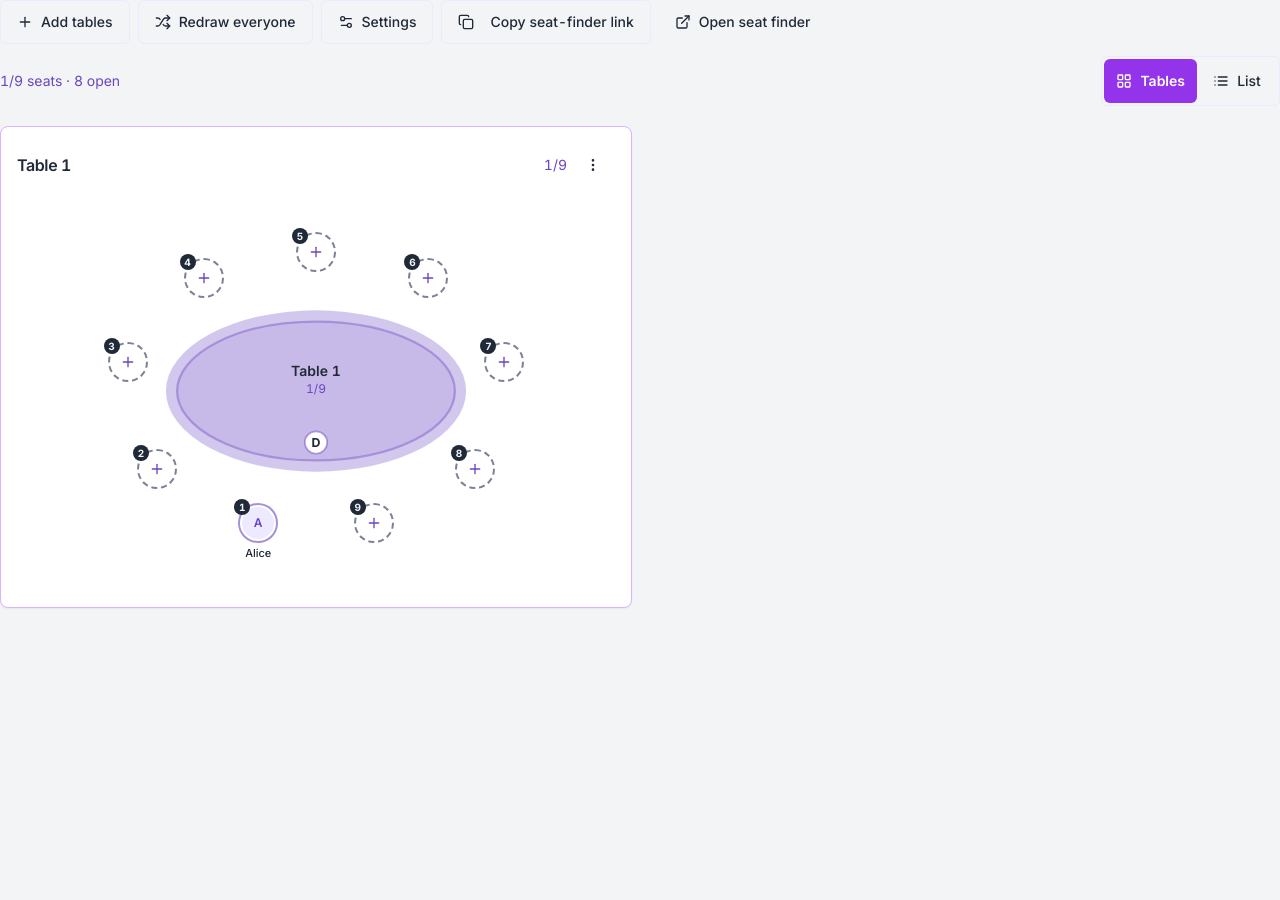
Scenario: Seating settings › puts the server's refusal on its field
What coordinates should you click on to do the following:
click the button "Settings"
I would click on:
 (377, 22)
Its box is x1=320 y1=0 x2=433 y2=44.
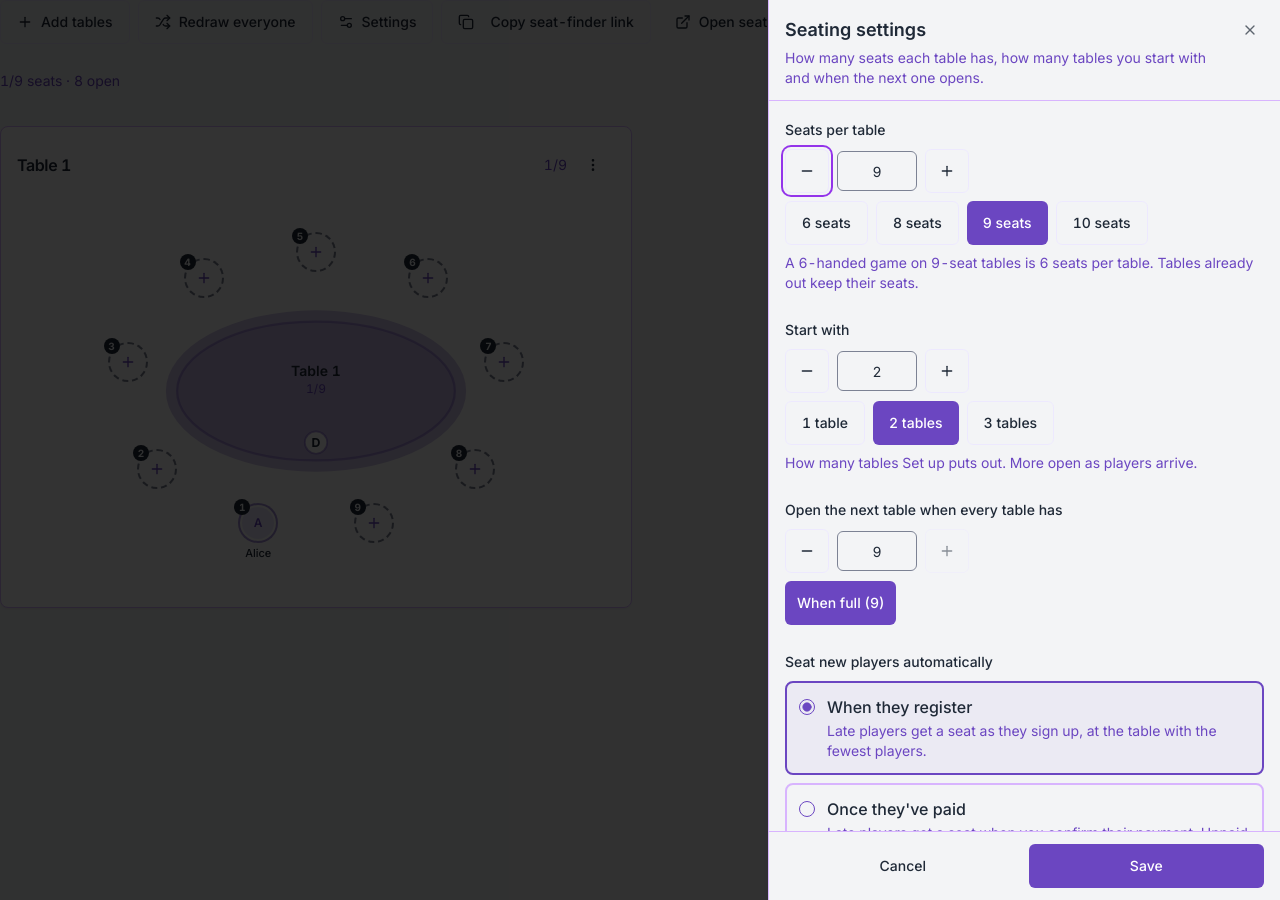
What coordinates should you click on to do the following:
click the button named "Fewer players"
I would click on:
 (807, 551)
Its box is x1=785 y1=529 x2=829 y2=573.
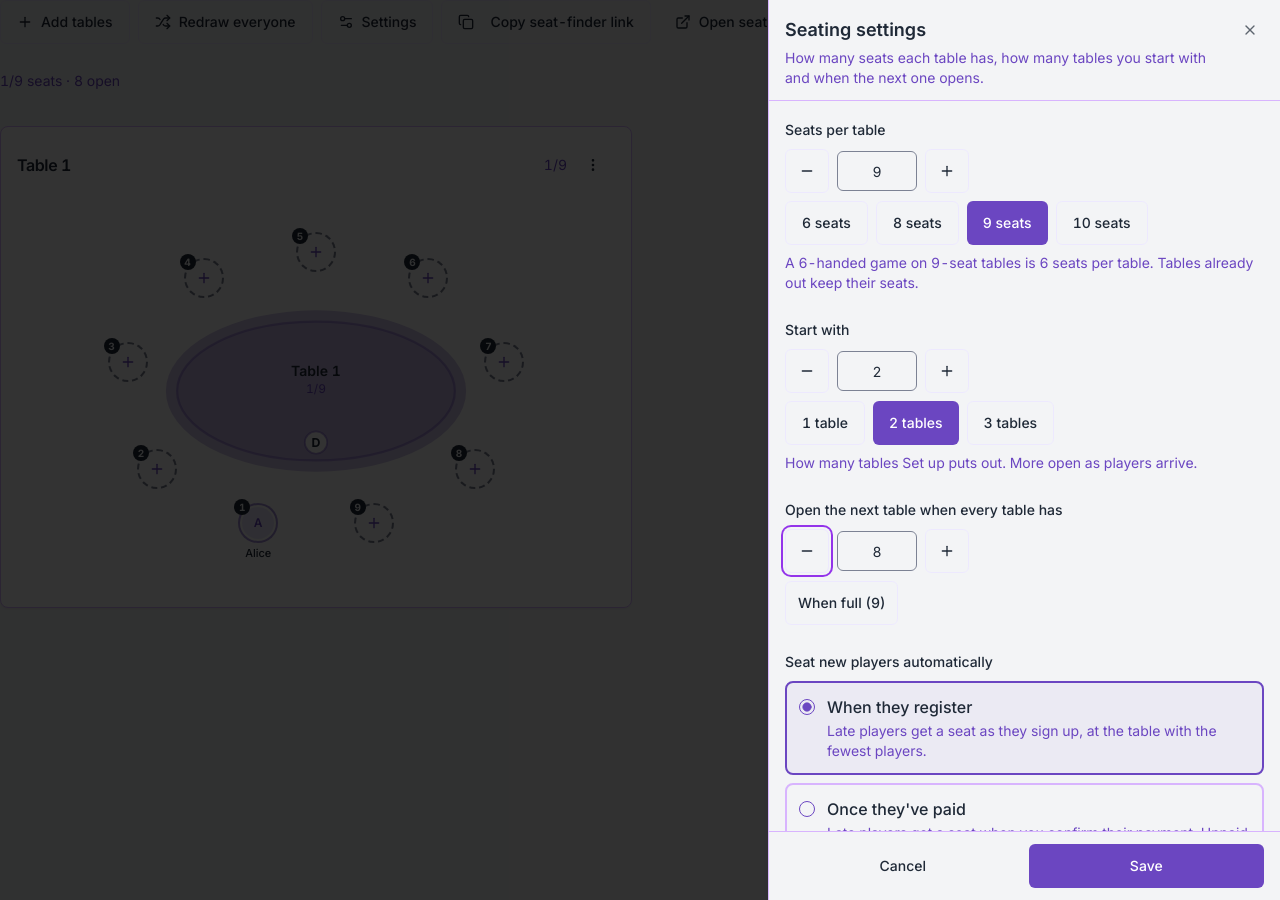
What coordinates should you click on to do the following:
click the button "Save"
I would click on:
 (1146, 866)
Its box is x1=1028 y1=844 x2=1264 y2=888.
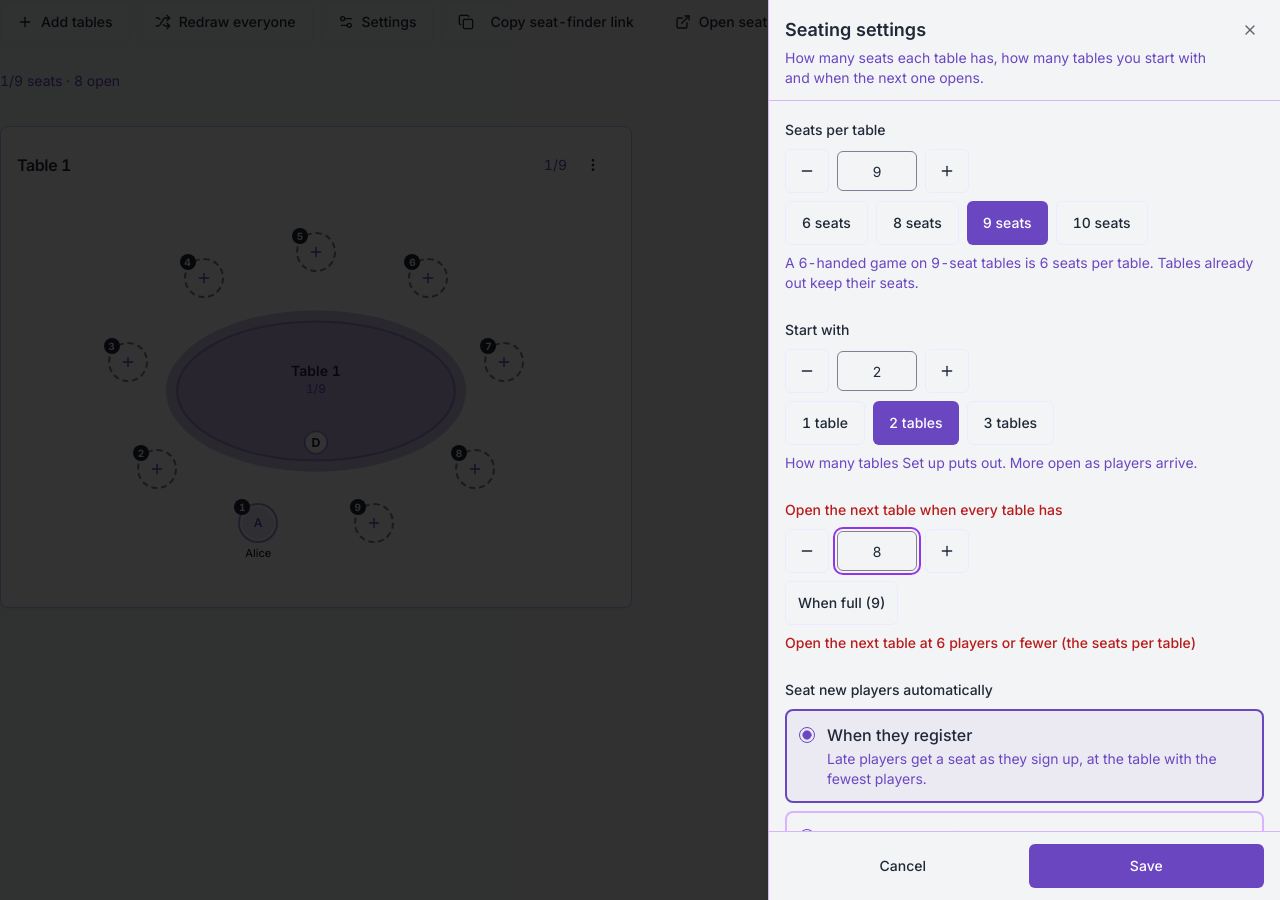
Expected: the text "Open the next table at 6 players or fewer (the seats per table)" is shown, x1=785 y1=633 x2=1264 y2=653
